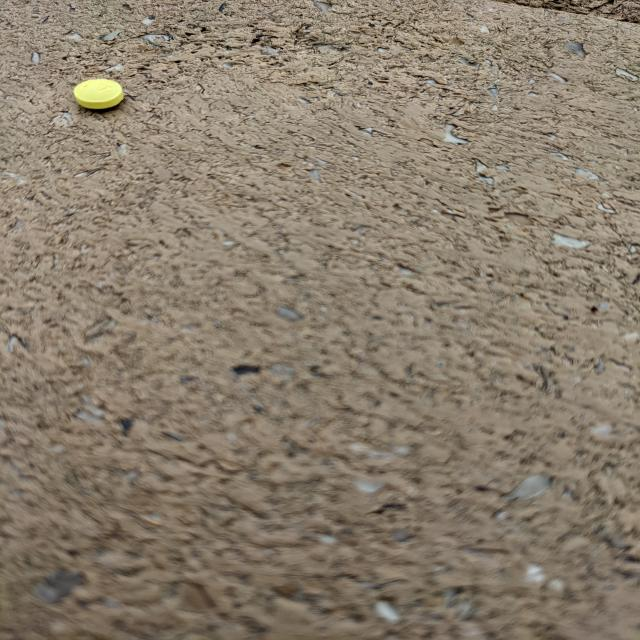non-organic waste: (72, 78, 126, 110)
